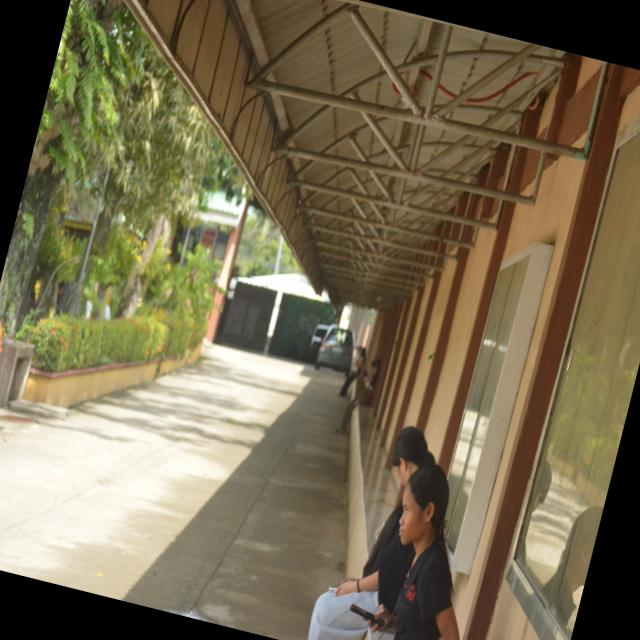person: (369, 465, 459, 639), (308, 503, 413, 639), (542, 507, 602, 630), (336, 360, 380, 433)
